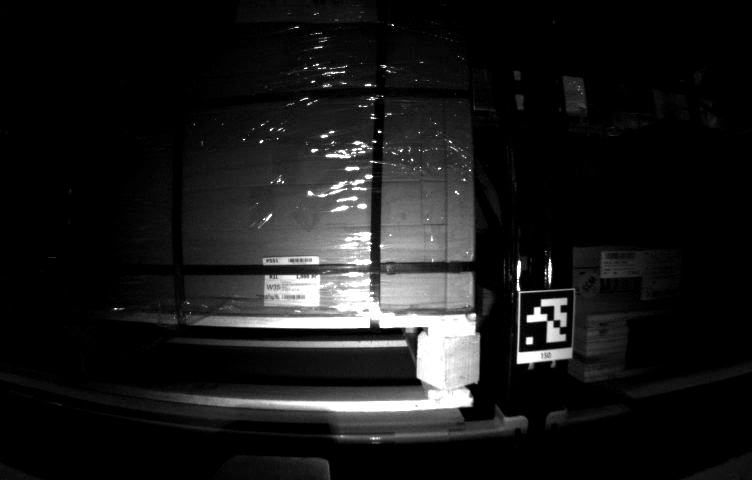True Barcode: (263, 257, 322, 305)
